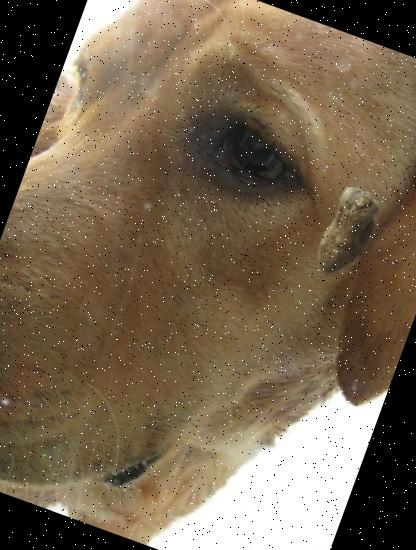Ginger: (286, 172, 406, 292)
